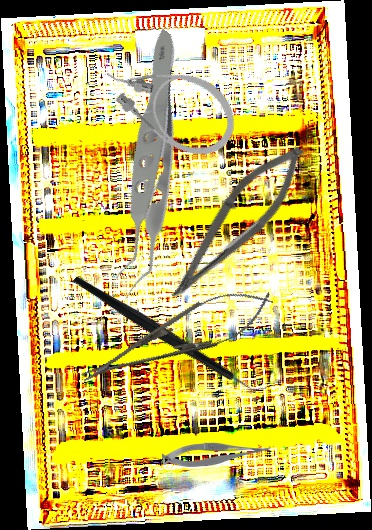Cannula: (92, 33, 250, 171)
Chopper: (71, 223, 271, 443)
Micro Scissor: (159, 131, 317, 317), (162, 442, 271, 468)
Needle Holder: (71, 273, 281, 401)
Tissue Forceps: (15, 27, 274, 302)
